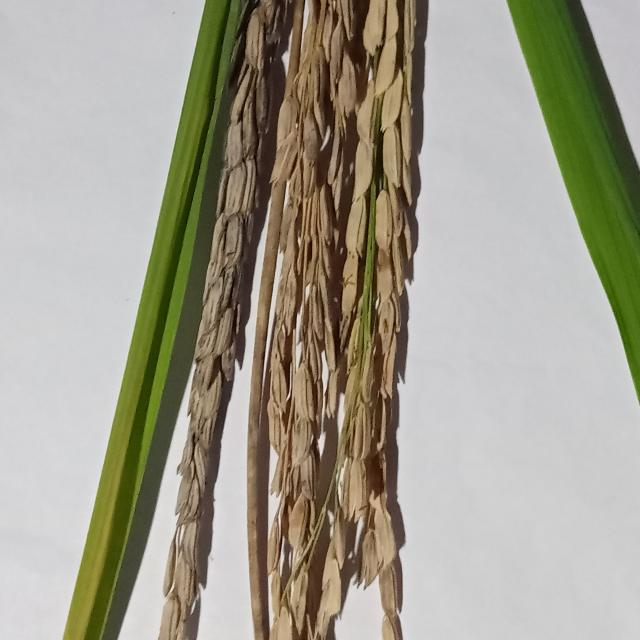Neck_Blast: (150, 0, 429, 640)
